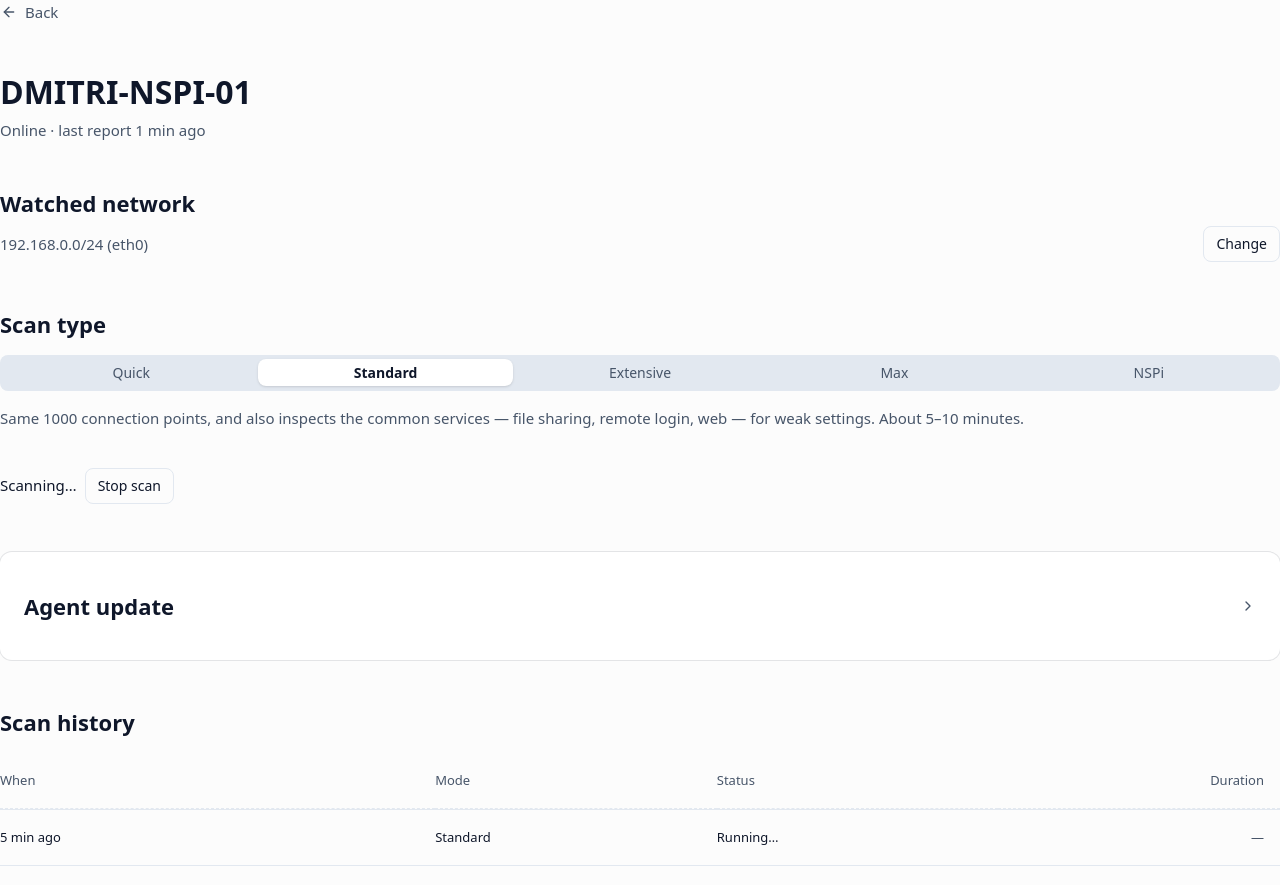
DeviceDetail stop scan › shows Done, View scan, and the finish-before-stop message when completion wins
Click the button "Stop scan": click(129, 486) [85, 468, 174, 504]
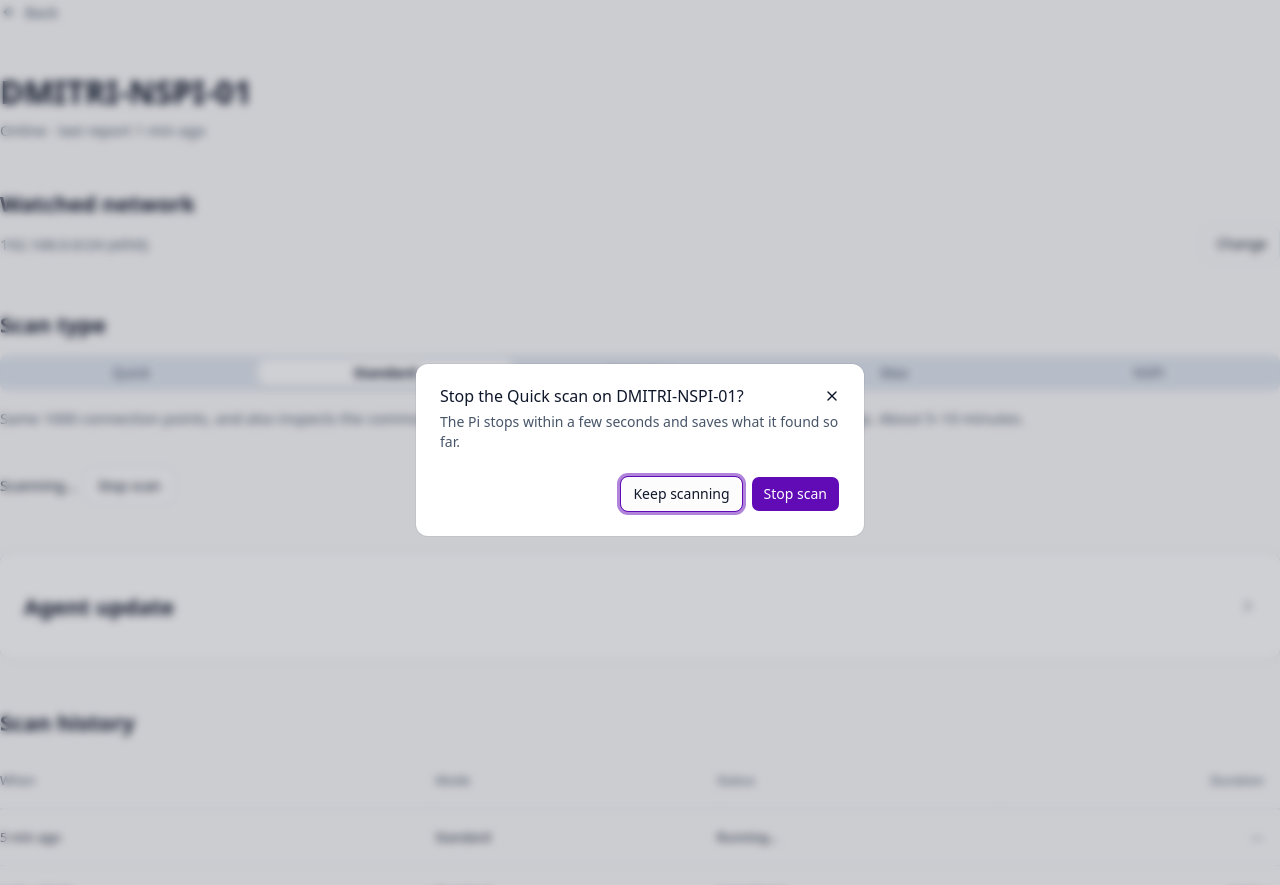
Click the button "Stop scan": click(795, 494) [751, 476, 840, 512]
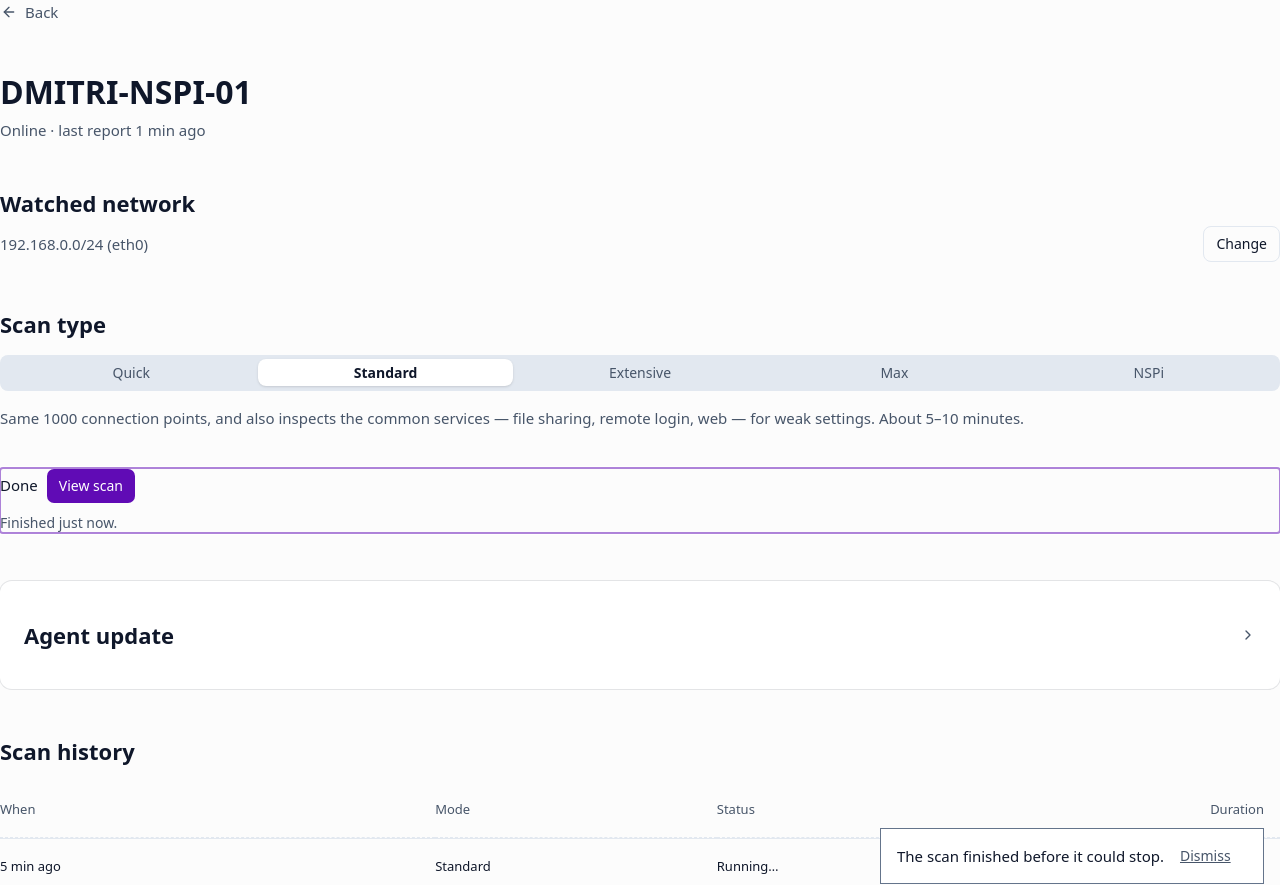
Expected: the text "Done" is shown, [0, 474, 38, 497]
Expected: the list item with test id "toast" shows "The scan finished before it could stop.", [897, 846, 1164, 866]
